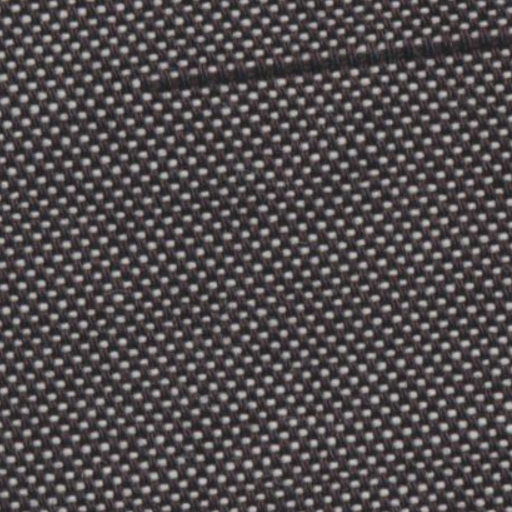DaiSha: (144, 23, 493, 100)
